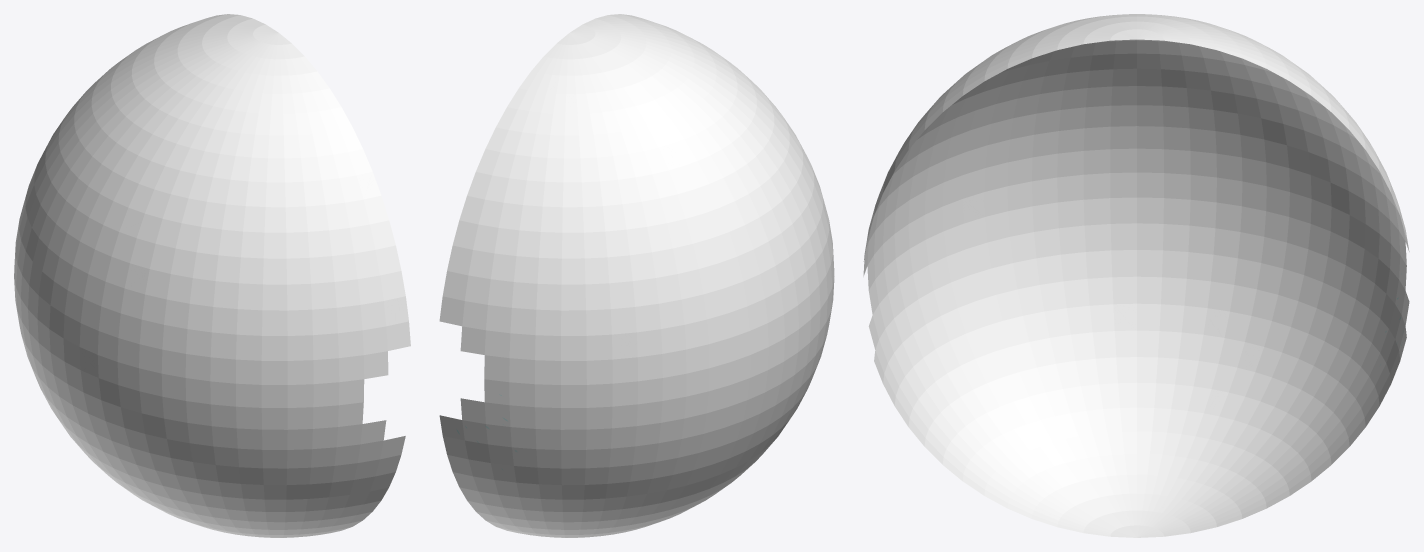
Rendered from starstestv3.fbx.
3 views of the same model, side by side, from view 1: azimuth 30°, elevation 25°; view 2: azimuth 150°, elevation 25°; view 3: azimuth 270°, elevation 25° (orthographic). The views are drawn at different scales.
Visible parts, largest first — view 1: Sphere; view 2: Sphere; view 3: Sphere.
Boxes of the visible parts, x1,y1,x2,y2 form: Sphere: [14, 14, 410, 537]; Sphere: [439, 14, 834, 537]; Sphere: [863, 14, 1409, 537].
Bounding box in the file's own units: 35430 × 70860 × 70349.
1 material, 1 textured.
